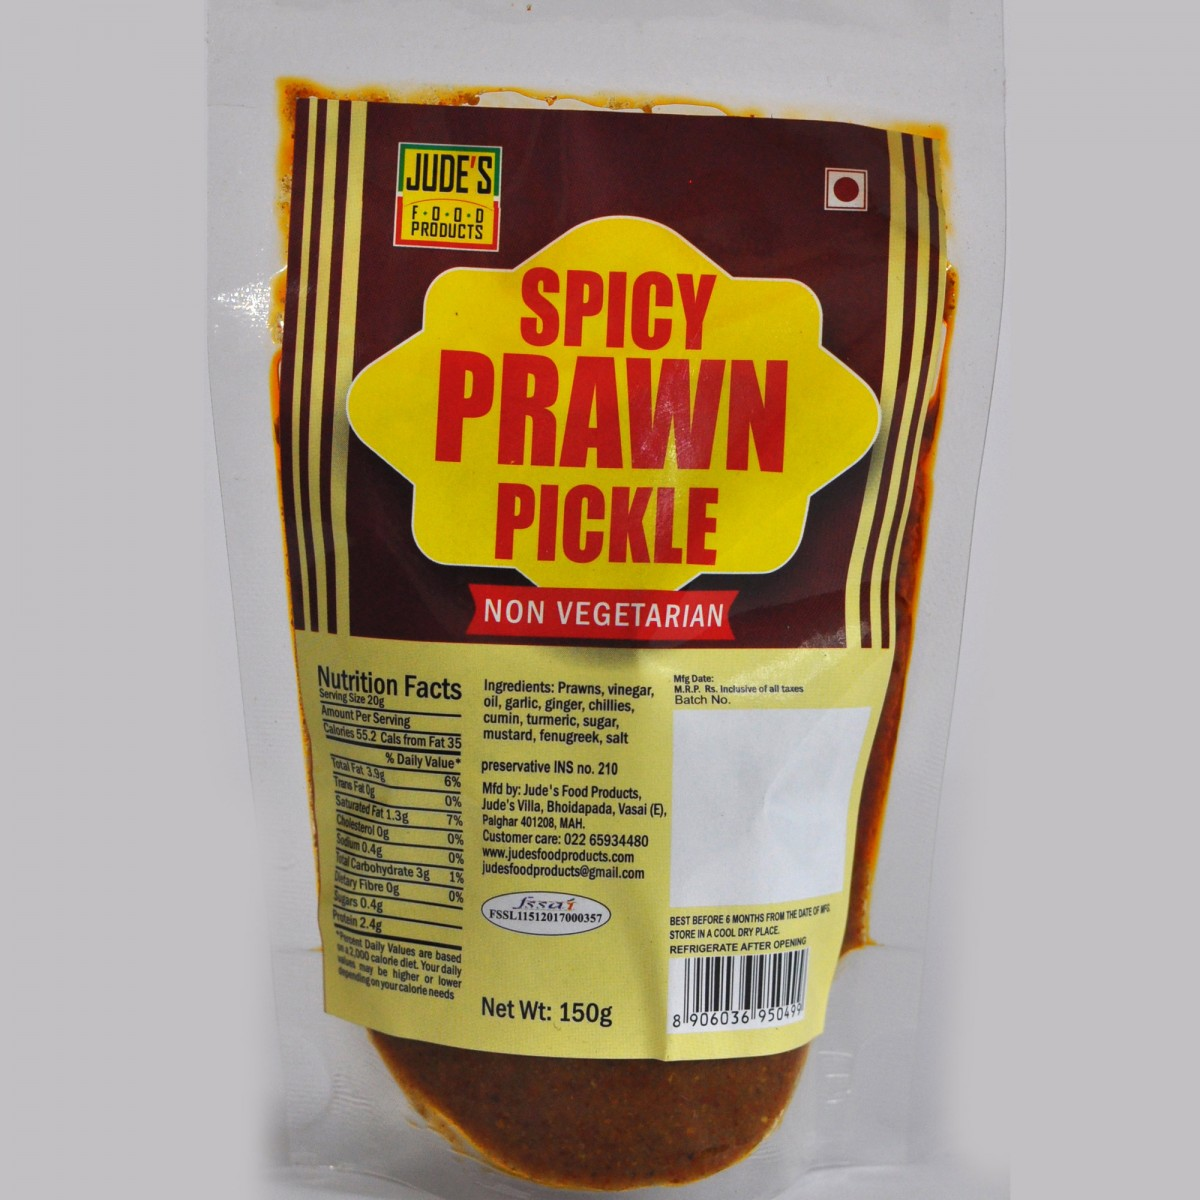nonveg_red: (818, 164, 873, 216)
